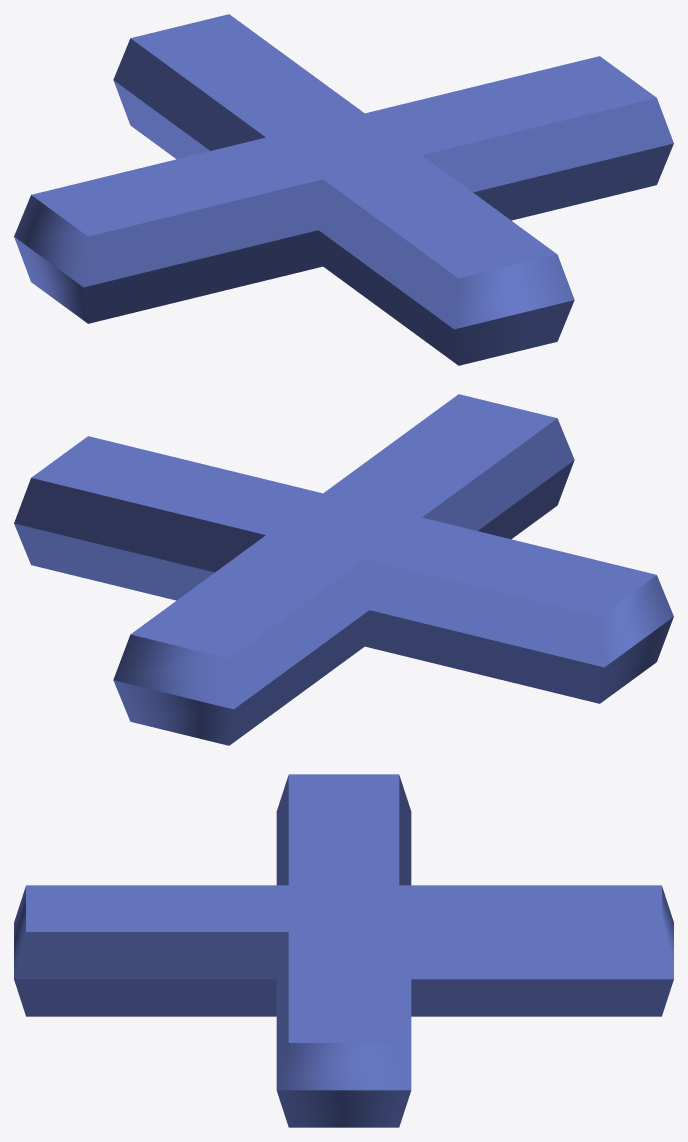
The model's file is plus.fbx.
3 views of the same model, one above another, from view 1: azimuth 30°, elevation 25°; view 2: azimuth 150°, elevation 25°; view 3: azimuth 270°, elevation 25° (orthographic). The views are drawn at different scales.
Parts seen in each view (by area): view 1: Text_002; view 2: Text_002; view 3: Text_002.
Boxes of the visible parts, left/top/right/bottom form: Text_002: left=14, top=14, right=673, bottom=365; Text_002: left=14, top=394, right=673, bottom=745; Text_002: left=14, top=774, right=673, bottom=1127.
Size of the model in its own units: 0.637 by 0.09 by 0.637.
